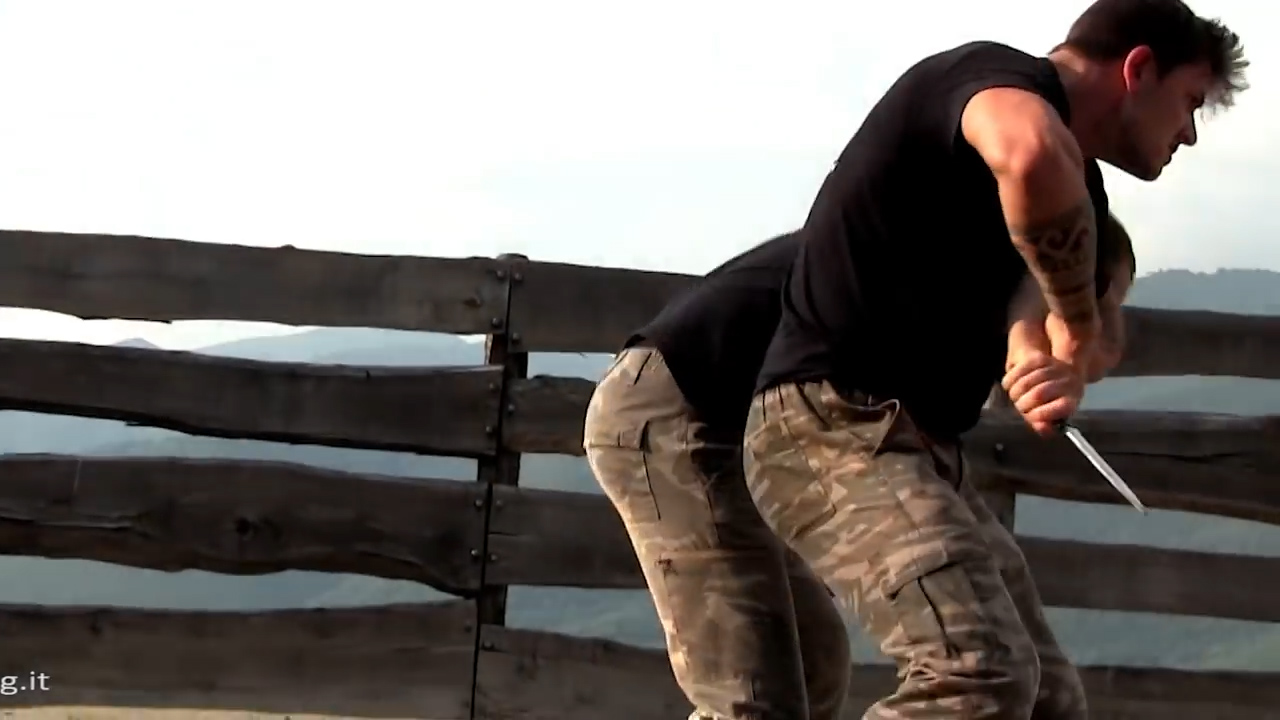knife: (1001, 360, 1156, 530)
